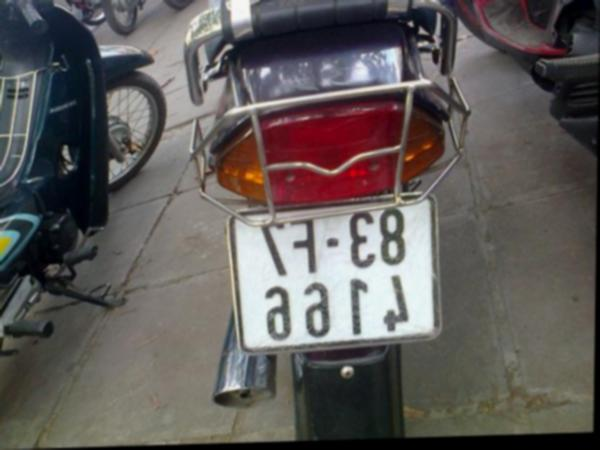License_Plate: (238, 193, 431, 355)
